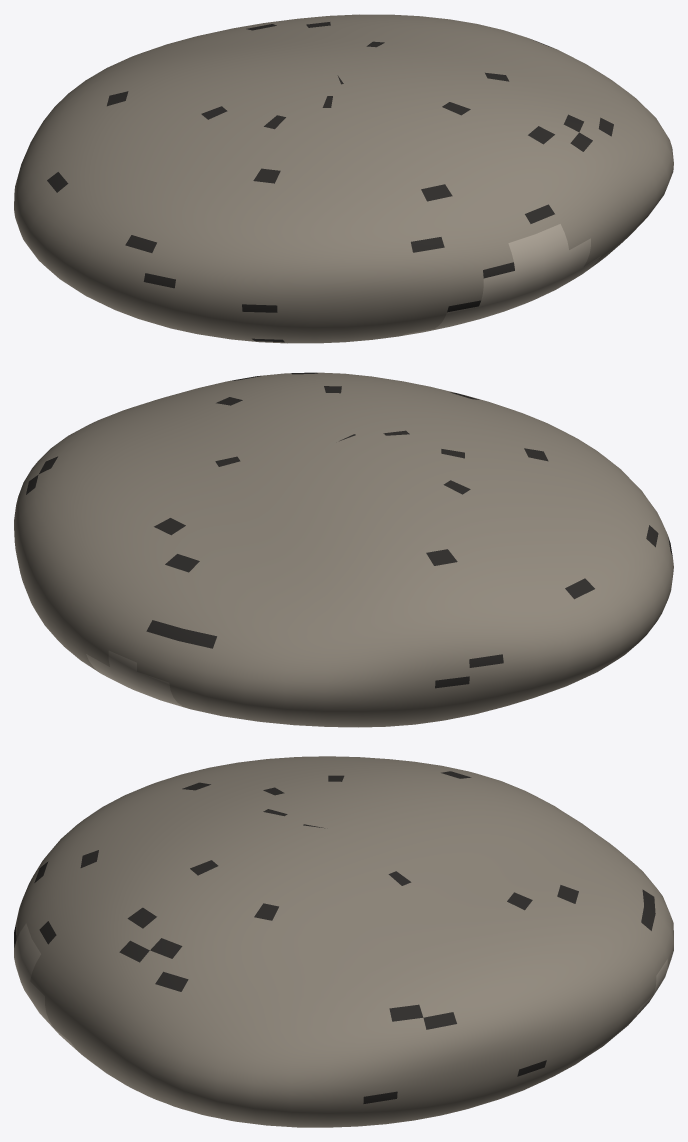
The model's file is Stone_01_Flat.fbx.
3 views of the same model, one above another, from view 1: azimuth 30°, elevation 25°; view 2: azimuth 150°, elevation 25°; view 3: azimuth 270°, elevation 25° (orthographic). The views are drawn at different scales.
Parts seen in each view (by area): view 1: Stone_01_Flat; view 2: Stone_01_Flat; view 3: Stone_01_Flat.
Boxes of the visible parts, <box> form: Stone_01_Flat: <box>14,14,673,343</box>; Stone_01_Flat: <box>14,372,673,727</box>; Stone_01_Flat: <box>14,756,673,1127</box>.
Size of the model in its own units: 0.0426 by 0.0147 by 0.0388.
